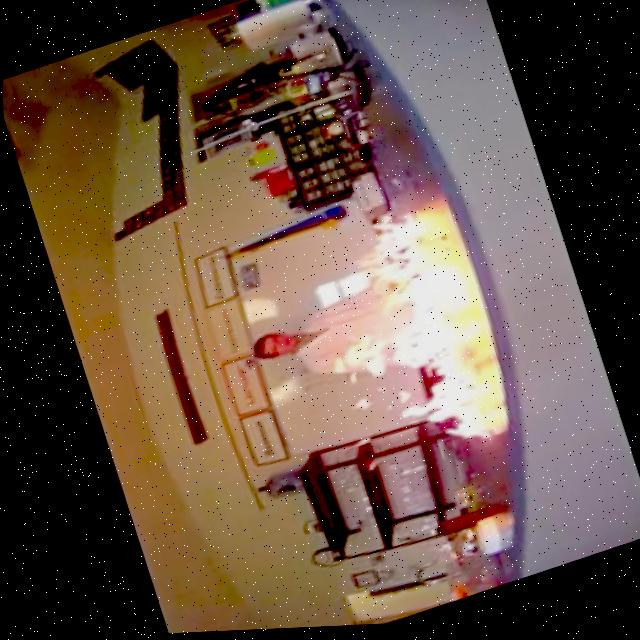Fire: (313, 203, 495, 484)
